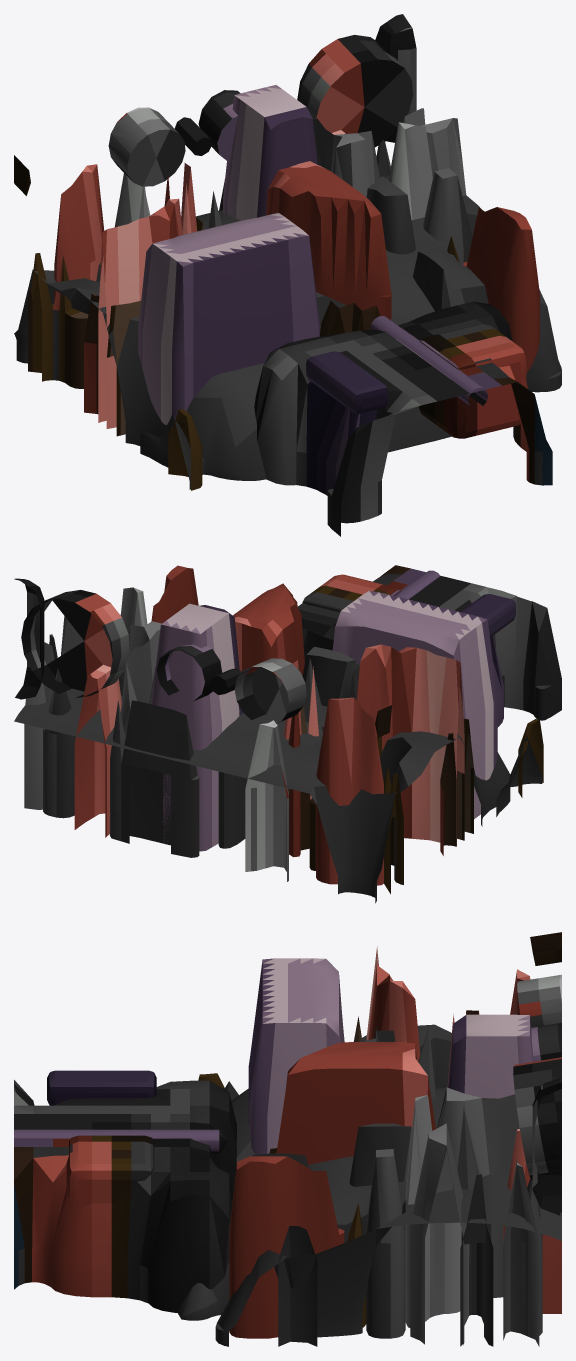
Rendered from deli_tower_41.glb.
3 views of the same model, one above another, from view 1: azimuth 30°, elevation 25°; view 2: azimuth 150°, elevation 25°; view 3: azimuth 270°, elevation 25° (orthographic). The views are drawn at different scales.
Parts seen in each view (by area): view 1: deli_tower_41_hull_purple, deli_tower_41_hull_red, deli_tower_41_mast, deli_tower_41_hull_gaps, deli_tower_41_hull_brown, deli_tower_41_s2, deli_tower_41_hull_dark, deli_tower_41_mast_box, deli_tower_41_hull_mid, deli_tower_41_s1, deli_tower_41_hull_light, deli_tower_41_mast_strip (+4 smaller); view 2: deli_tower_41_hull_red, deli_tower_41_hull_purple, deli_tower_41_hull_dark, deli_tower_41_hull_gaps, deli_tower_41_mast, deli_tower_41_hull_brown, deli_tower_41_s2, deli_tower_41_hull_light, deli_tower_41_hull_mid, deli_tower_41_s1, deli_tower_41_mast_box, deli_tower_41_s3 (+4 smaller); view 3: deli_tower_41_mast, deli_tower_41_hull_red, deli_tower_41_hull_gaps, deli_tower_41_hull_mid, deli_tower_41_hull_dark, deli_tower_41_hull_purple, deli_tower_41_mast_box, deli_tower_41_hull_light, deli_tower_41_s2, deli_tower_41_mast_strip, deli_tower_41_mast_pipe, deli_tower_41_s1 (+4 smaller).
Boxes of the visible parts, bbox=[...] form: deli_tower_41_hull_purple: bbox=[138, 85, 319, 424]; deli_tower_41_hull_red: bbox=[54, 130, 539, 428]; deli_tower_41_mast: bbox=[254, 301, 552, 536]; deli_tower_41_hull_gaps: bbox=[14, 176, 561, 489]; deli_tower_41_hull_brown: bbox=[28, 217, 459, 490]; deli_tower_41_s2: bbox=[297, 35, 413, 147]; deli_tower_41_hull_dark: bbox=[201, 139, 472, 311]; deli_tower_41_mast_box: bbox=[418, 324, 526, 438]; deli_tower_41_hull_mid: bbox=[208, 108, 466, 228]; deli_tower_41_s1: bbox=[108, 107, 185, 186]; deli_tower_41_hull_light: bbox=[115, 122, 432, 227]; deli_tower_41_mast_strip: bbox=[306, 351, 387, 413]; deli_tower_41_hull_red: bbox=[74, 565, 464, 885]; deli_tower_41_hull_purple: bbox=[151, 591, 497, 851]; deli_tower_41_hull_dark: bbox=[43, 614, 359, 857]; deli_tower_41_hull_gaps: bbox=[14, 688, 542, 903]; deli_tower_41_mast: bbox=[297, 565, 561, 727]; deli_tower_41_hull_brown: bbox=[300, 718, 543, 894]; deli_tower_41_s2: bbox=[21, 590, 129, 697]; deli_tower_41_hull_light: bbox=[120, 587, 288, 881]; deli_tower_41_hull_mid: bbox=[24, 616, 323, 809]; deli_tower_41_s1: bbox=[234, 658, 306, 723]; deli_tower_41_mast_box: bbox=[302, 574, 400, 612]; deli_tower_41_s3: bbox=[156, 644, 221, 701]; deli_tower_41_mast: bbox=[14, 1080, 236, 1312]; deli_tower_41_hull_red: bbox=[229, 946, 561, 1338]; deli_tower_41_hull_gaps: bbox=[177, 1024, 561, 1346]; deli_tower_41_hull_mid: bbox=[410, 1026, 539, 1346]; deli_tower_41_hull_dark: bbox=[252, 1026, 542, 1346]; deli_tower_41_hull_purple: bbox=[248, 958, 533, 1154]; deli_tower_41_mast_box: bbox=[66, 1135, 154, 1209]; deli_tower_41_hull_light: bbox=[405, 1095, 461, 1327]; deli_tower_41_s2: bbox=[513, 1057, 561, 1180]; deli_tower_41_mast_strip: bbox=[47, 1070, 156, 1105]; deli_tower_41_mast_pipe: bbox=[14, 1129, 227, 1153]; deli_tower_41_s1: bbox=[517, 974, 561, 1027].
Bounding box in the file's own units: 23.98 × 14.89 × 27.98.
